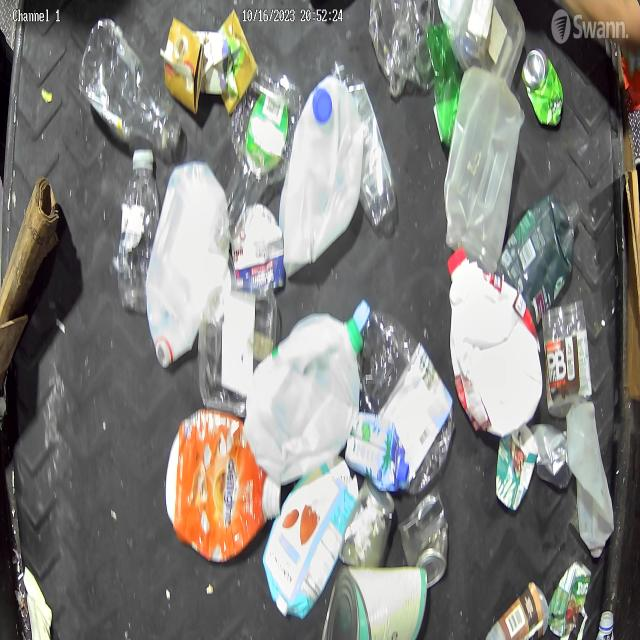can: (322, 563, 427, 640), (398, 486, 450, 588), (338, 476, 396, 566), (522, 46, 565, 129)
milk_jug: (245, 312, 364, 486), (447, 246, 543, 439), (145, 161, 231, 369), (278, 76, 365, 280), (443, 63, 524, 273), (566, 397, 615, 560)
non_white_jug: (262, 456, 358, 620)
plastic_bottle: (352, 301, 456, 494), (77, 16, 181, 152), (330, 58, 398, 230), (118, 148, 161, 314)
